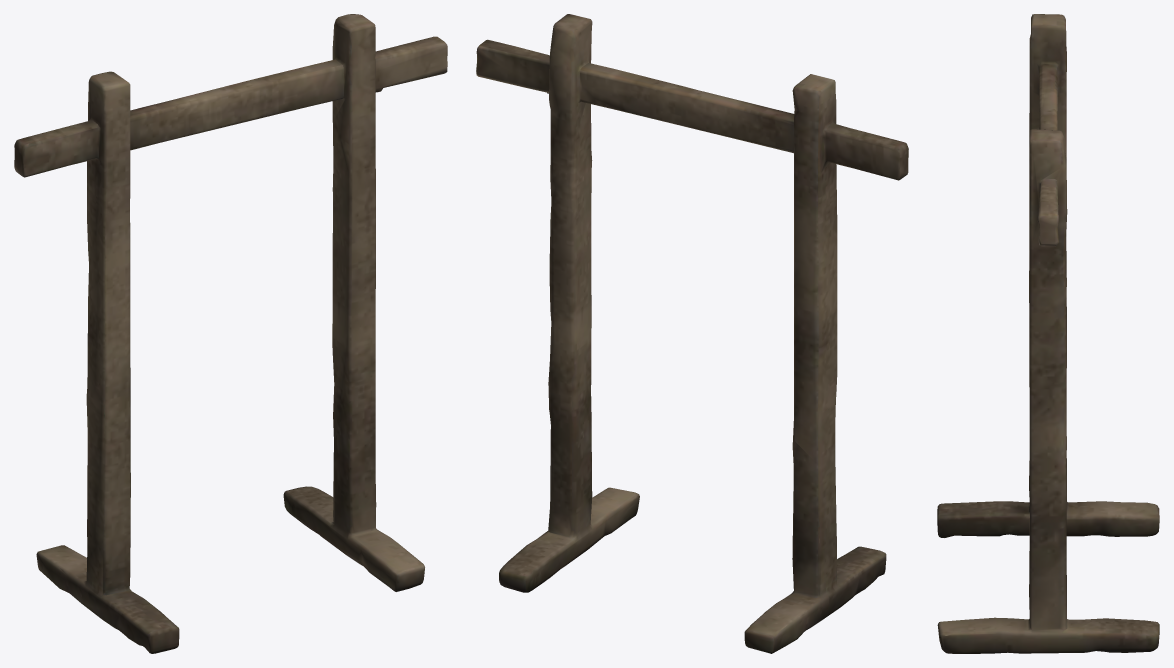
The model's file is ancient-wood-torii-frame-v001.glb.
3 renders of one model, left to right at view 1: azimuth 30°, elevation 25°; view 2: azimuth 150°, elevation 25°; view 3: azimuth 270°, elevation 25°, orthographic. The views are drawn at different scales.
Parts seen in each view (by area): view 1: ancient-wood-torii-frame; view 2: ancient-wood-torii-frame; view 3: ancient-wood-torii-frame.
Part boxes in pixels (x1,y1,x2,y2): ancient-wood-torii-frame: (14,14,447,653); ancient-wood-torii-frame: (476,14,908,653); ancient-wood-torii-frame: (937,14,1159,653).
Size of the model in its own units: 2.04 by 2.44 by 0.9568.
Materials: 1 (1 with a texture image).
